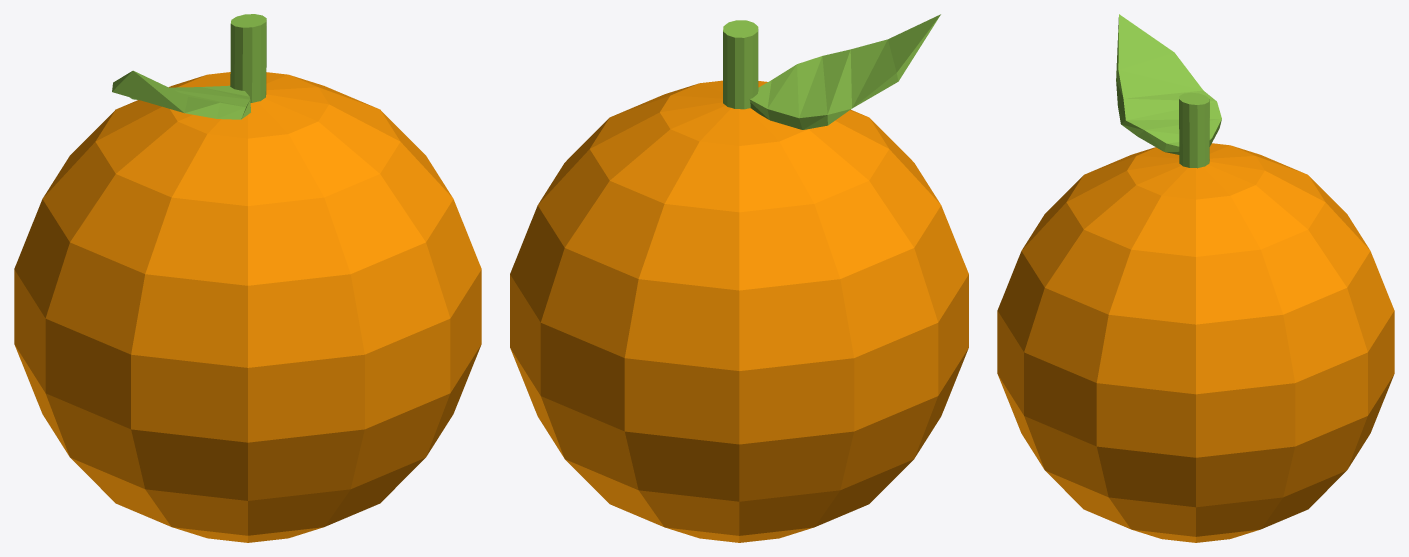
The model's file is Orange.fbx.
The picture shows the model from 3 angles, left to right: view 1: azimuth 30°, elevation 25°; view 2: azimuth 150°, elevation 25°; view 3: azimuth 270°, elevation 25°; orthographic projection. The views are drawn at different scales.
Parts seen in each view (by area): view 1: mesh_879198542, mesh_1203776062, mesh_589766384; view 2: mesh_879198542, mesh_1203776062, mesh_589766384; view 3: mesh_879198542, mesh_1203776062, mesh_589766384.
Part boxes in pixels (x1,y1,x2,y2): mesh_879198542: (14,72,481,542); mesh_1203776062: (112,70,250,119); mesh_589766384: (230,14,266,102); mesh_879198542: (510,80,968,542); mesh_1203776062: (749,14,940,129); mesh_589766384: (723,20,758,109); mesh_879198542: (997,143,1394,542); mesh_1203776062: (1116,14,1221,154); mesh_589766384: (1179,92,1209,168).
Size of the model in its own units: 13.79 by 17.03 by 13.79.
